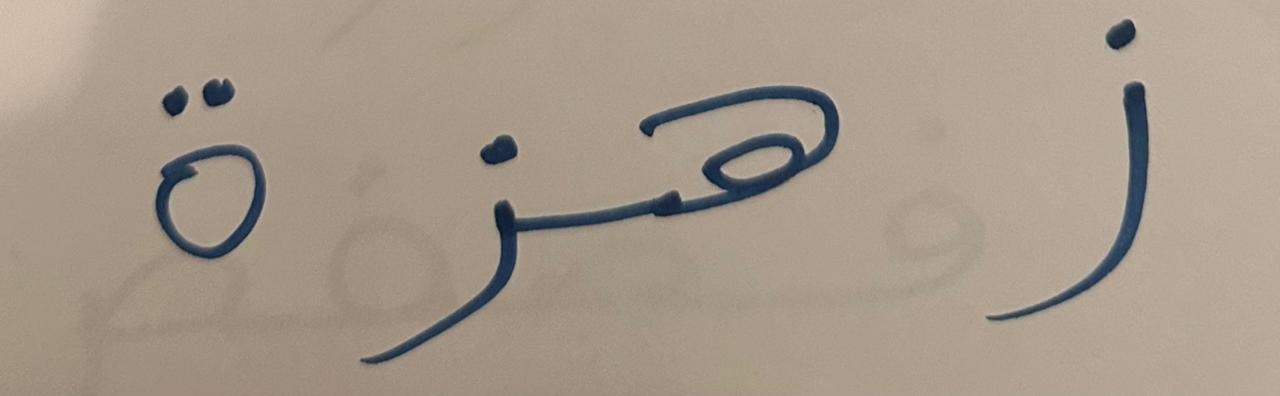hamza: (871, 13, 1231, 370), (295, 29, 568, 379)
jeem: (571, 3, 867, 357)
thal: (120, 38, 290, 328)
